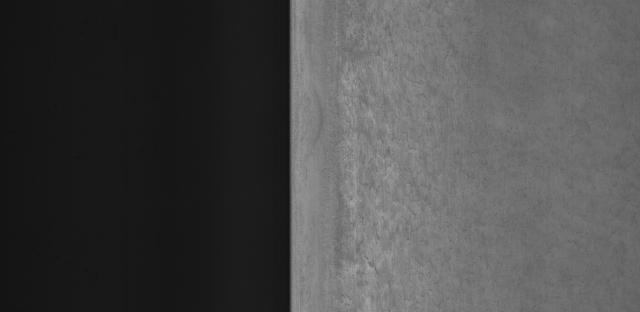silk_spot: (328, 0, 453, 288)
